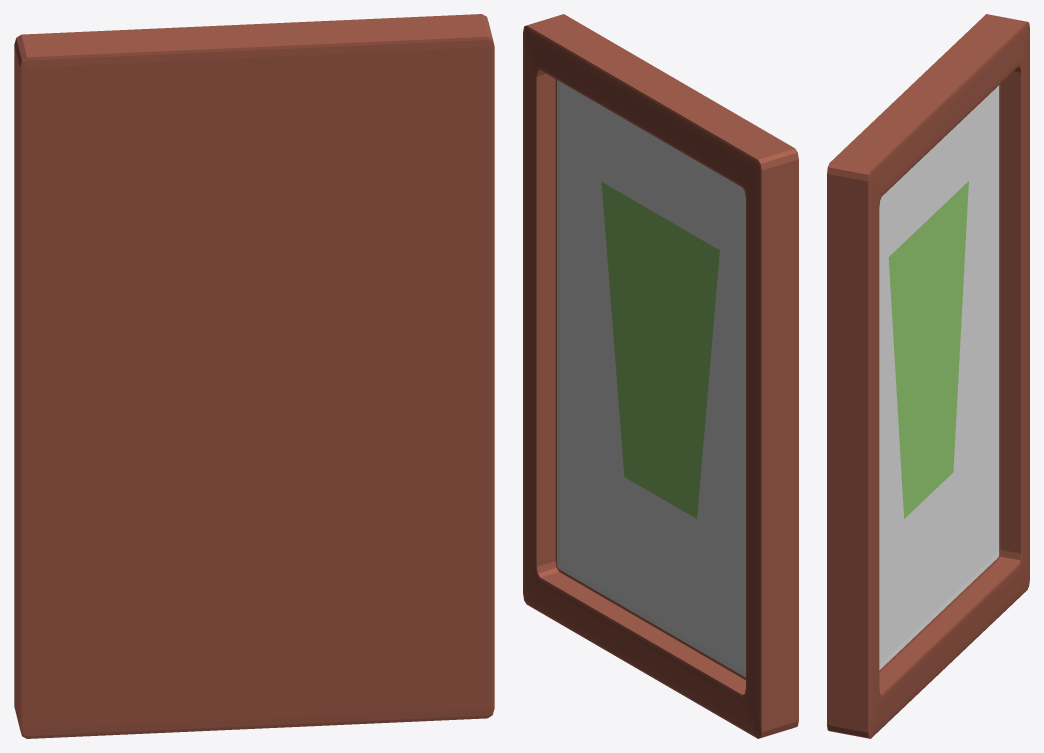
Rendered from tablo6.fbx.
The picture shows the model from 3 angles, left to right: view 1: azimuth 30°, elevation 25°; view 2: azimuth 150°, elevation 25°; view 3: azimuth 270°, elevation 25°; orthographic projection. The views are drawn at different scales.
Parts seen in each view (by area): view 1: Cube.003; view 2: Cube.003; view 3: Cube.003.
Part boxes in pixels (x1,y1,x2,y2): Cube.003: (14,14,494,738); Cube.003: (523,14,798,738); Cube.003: (827,14,1029,738).
Size of the model in its own units: 674 by 1106 by 358.
